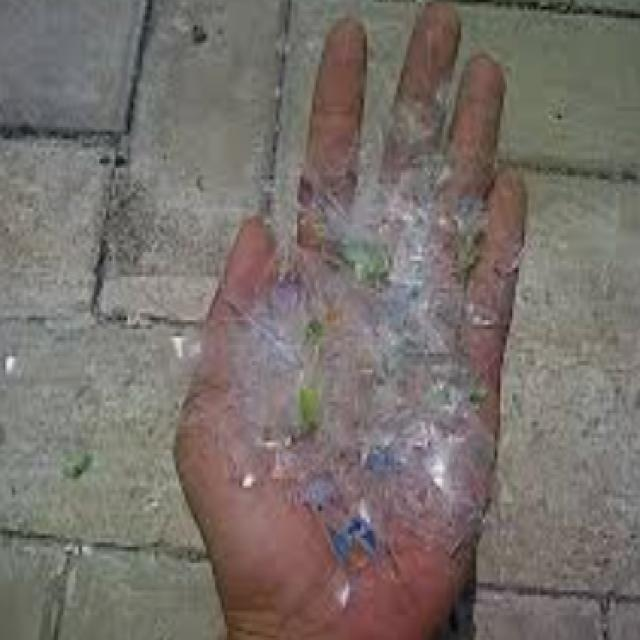PecahanKaca: (171, 0, 529, 638)
